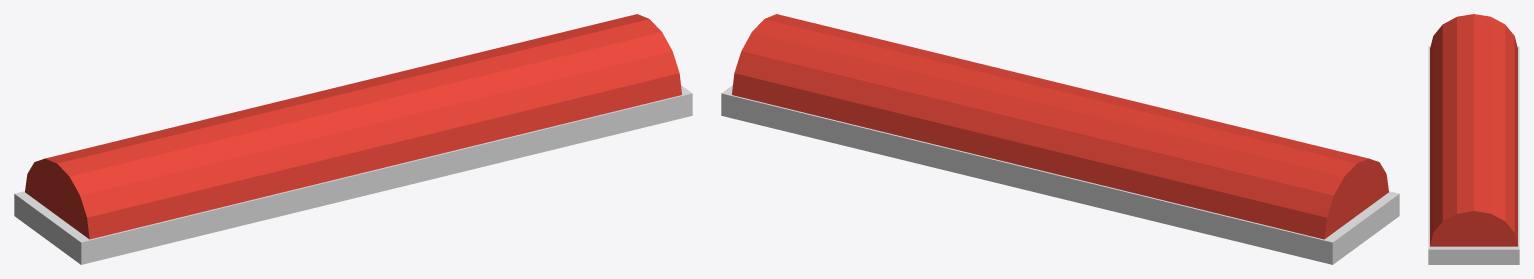
Rendered from lamp.fbx.
The picture shows the model from 3 angles, left to right: view 1: azimuth 30°, elevation 25°; view 2: azimuth 150°, elevation 25°; view 3: azimuth 270°, elevation 25°; orthographic projection. The views are drawn at different scales.
Visible parts, largest first — view 1: Lamp; view 2: Lamp; view 3: Lamp.
Boxes of the visible parts, bbox=[...] form: Lamp: bbox=[14, 14, 692, 264]; Lamp: bbox=[721, 14, 1399, 264]; Lamp: bbox=[1428, 14, 1519, 264].
Size of the model in its own units: 1091 by 127 by 206.
